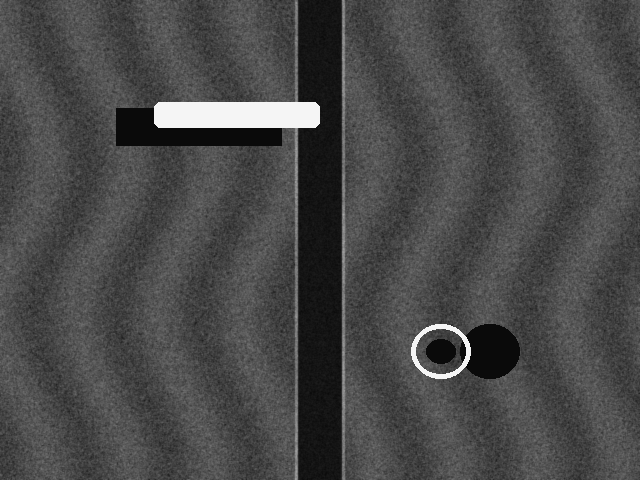Rubber Debris: (411, 324, 470, 378)
Wood Debris: (154, 102, 319, 127)
